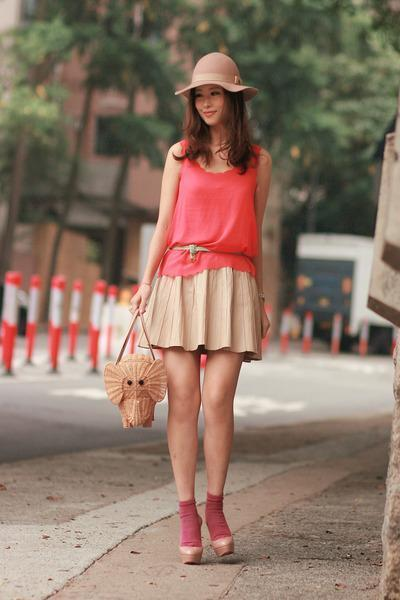bag: (90, 324, 173, 427)
hat: (175, 50, 250, 103)
shirt: (151, 144, 263, 275)
shoe: (162, 492, 230, 557)
skirt: (129, 266, 253, 360)
